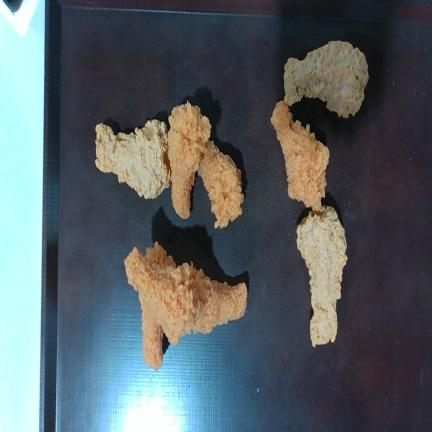chicken: (297, 206, 347, 347), (284, 41, 368, 118), (271, 101, 329, 210), (95, 119, 170, 199), (168, 101, 211, 217), (198, 141, 244, 228)
